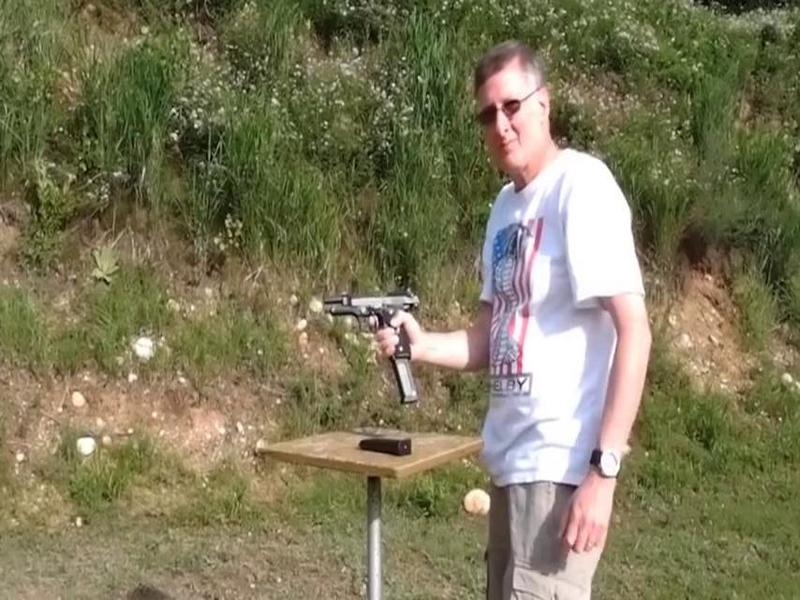Pistola: (307, 279, 442, 364)
